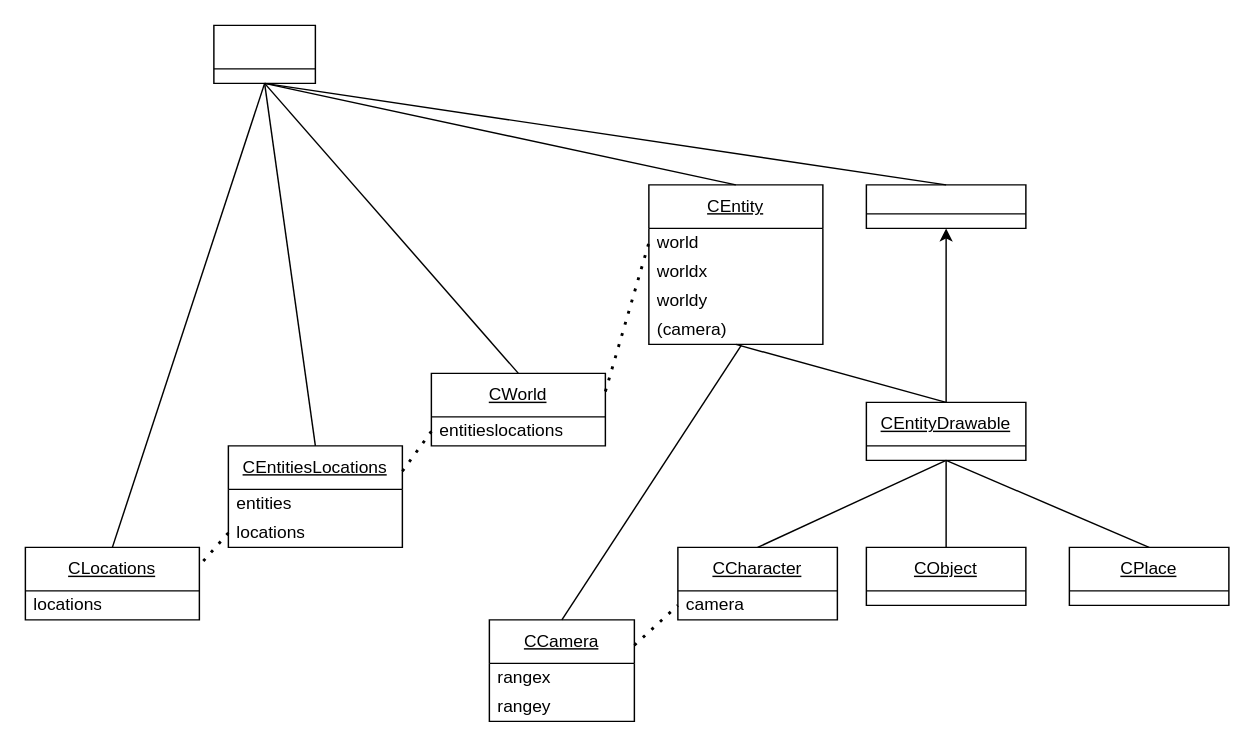
Some shapes in this 1254 by 747 pixel diagram are drawn without their labels. The shapes that lost their labels are listed below. From the top down, each one's centre as x and y in pixels, then its label:
At (x=263, y=53): "Classic".
At (x=945, y=205): "CSprite".
